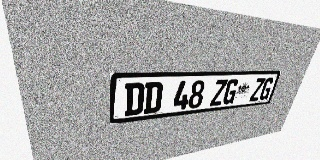4: (172, 81, 192, 111)
8: (187, 80, 206, 109)
D: (124, 82, 145, 116), (143, 82, 164, 114)
G: (222, 79, 240, 105), (258, 77, 275, 100)
Z: (210, 79, 228, 106), (249, 78, 266, 102)
